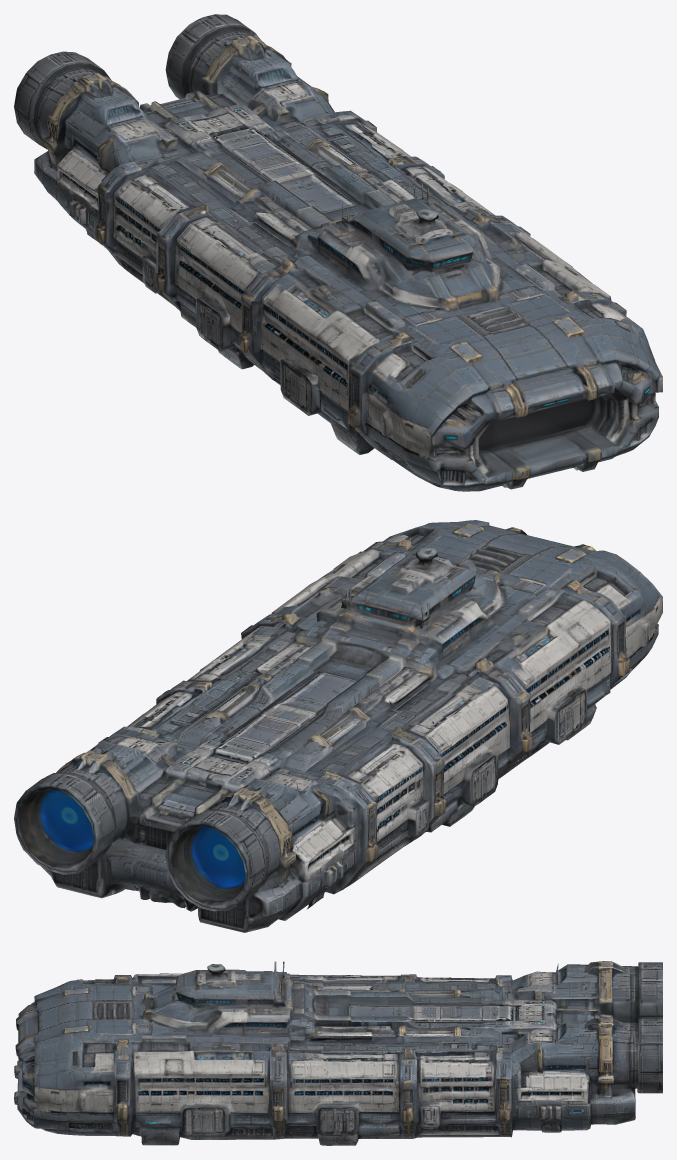
The model's file is spaceship_aurora.glb.
3 renders of one model, top to bottom at view 1: azimuth 30°, elevation 25°; view 2: azimuth 150°, elevation 25°; view 3: azimuth 270°, elevation 25°, orthographic. The views are drawn at different scales.
Visible parts, largest first — view 1: tripo_node_186eea29-a9db-40b2-a5ca-b6c0b1afe77f; view 2: tripo_node_186eea29-a9db-40b2-a5ca-b6c0b1afe77f; view 3: tripo_node_186eea29-a9db-40b2-a5ca-b6c0b1afe77f.
Part boxes in pixels (left/top/right/bottom): tripo_node_186eea29-a9db-40b2-a5ca-b6c0b1afe77f: left=14, top=14, right=662, bottom=491; tripo_node_186eea29-a9db-40b2-a5ca-b6c0b1afe77f: left=14, top=520, right=662, bottom=932; tripo_node_186eea29-a9db-40b2-a5ca-b6c0b1afe77f: left=14, top=961, right=662, bottom=1145.
Size of the model in its own units: 0.3885 by 0.245 by 0.9985.
Materials: 1 (1 with a texture image).
